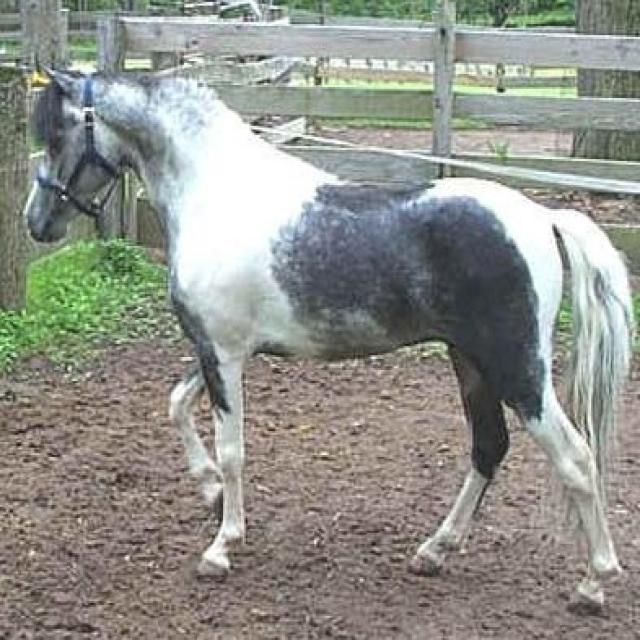horse: (23, 67, 633, 618)
